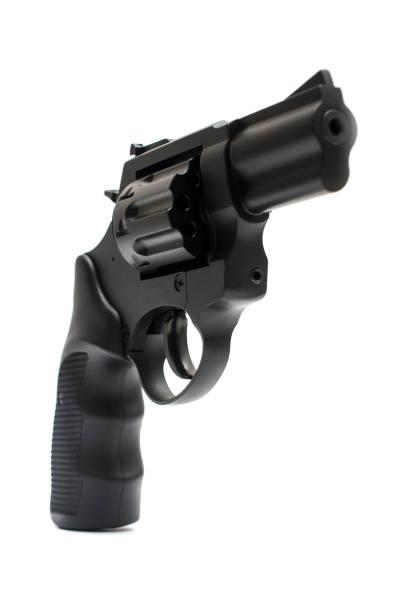weapon: (45, 67, 357, 535)
